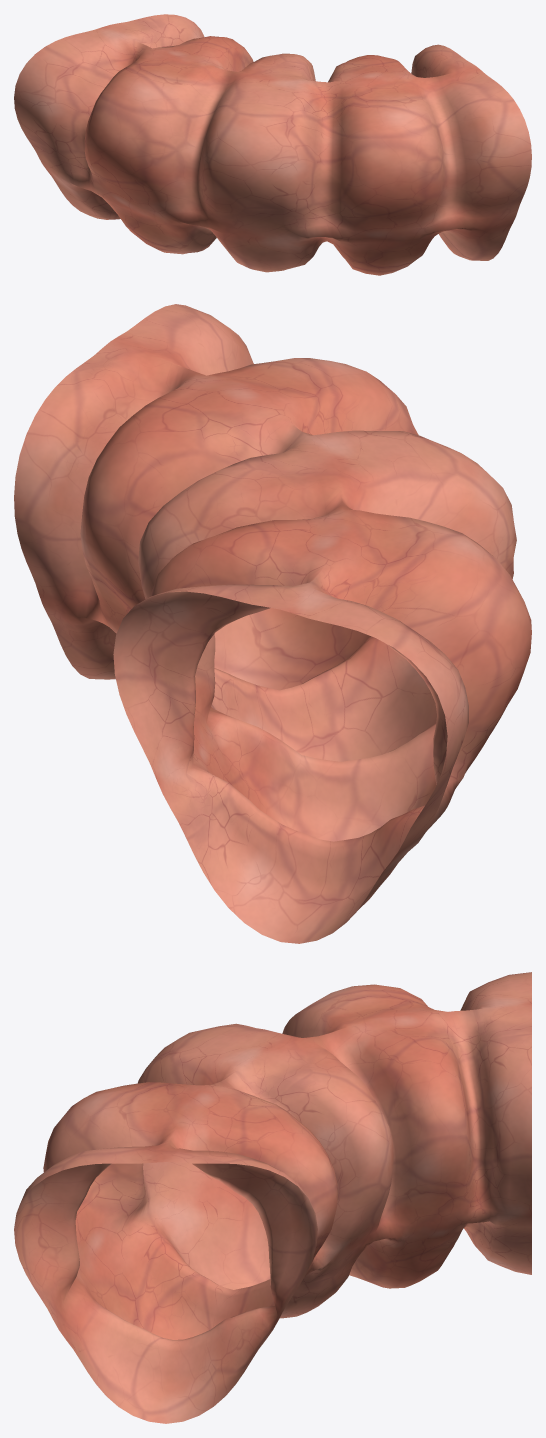
File: Colon_Curve.fbx
3 views of the same model, one above another, from view 1: azimuth 30°, elevation 25°; view 2: azimuth 150°, elevation 25°; view 3: azimuth 270°, elevation 25° (orthographic). The views are drawn at different scales.
Parts seen in each view (by area): view 1: Colon_Curve; view 2: Colon_Curve; view 3: Colon_Curve.
Part boxes in pixels (left/top/right/bottom): Colon_Curve: left=14, top=14, right=531, bottom=275; Colon_Curve: left=14, top=304, right=531, bottom=943; Colon_Curve: left=14, top=972, right=531, bottom=1423.
Bounding box in the file's own units: 7.21 × 4.09 × 7.21.
